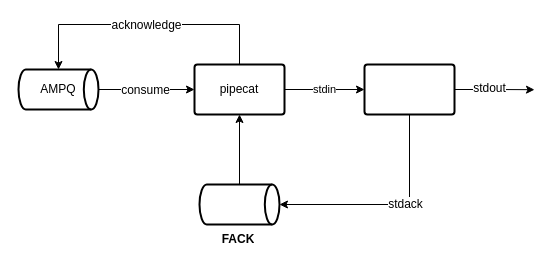
The diagram is 560 pixels wide and 270 high, and some of its shapes have lost their labels. Each missing label, with the centre of its shape:
Named Queue: point (239, 204)
program: point (409, 89)
